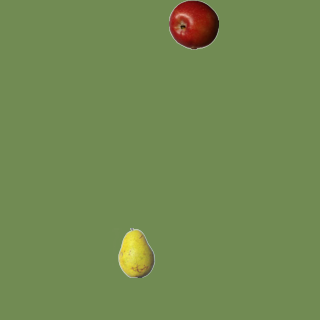Apple Braeburn: (168, 0, 218, 49)
Pear Monster: (111, 227, 161, 277)
